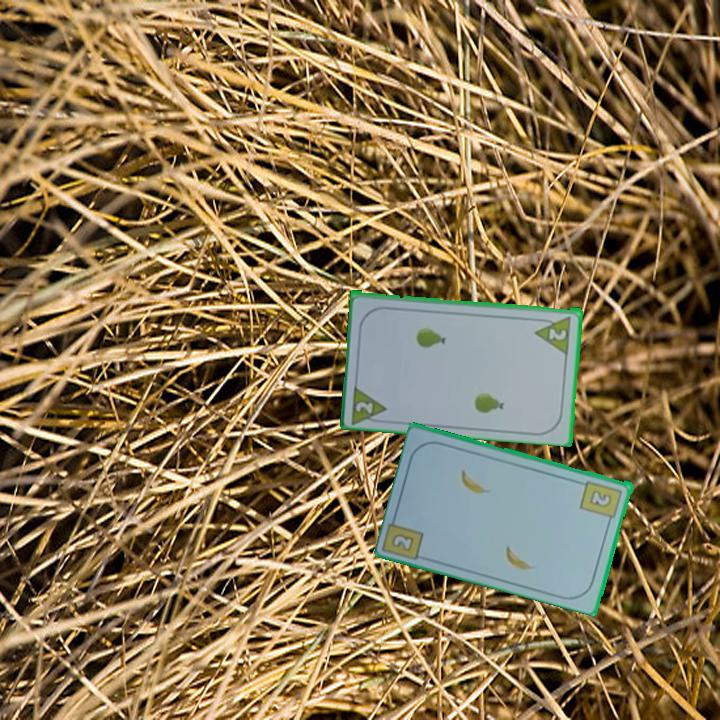2b: (577, 477, 625, 526), (388, 530, 417, 554)
2p: (545, 323, 569, 343), (352, 398, 376, 416)
